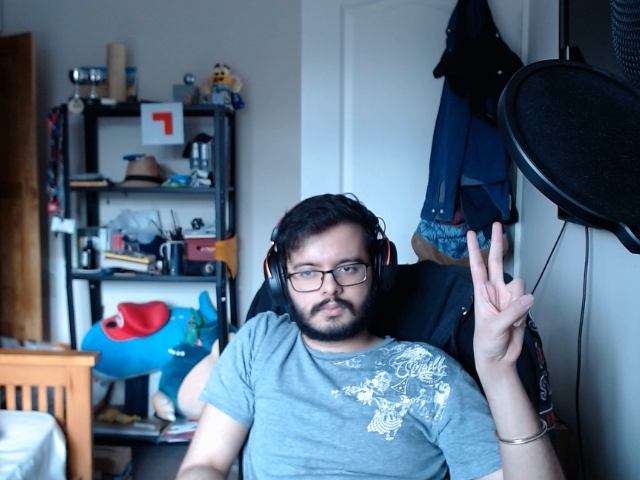Peace: (467, 211, 539, 386)
